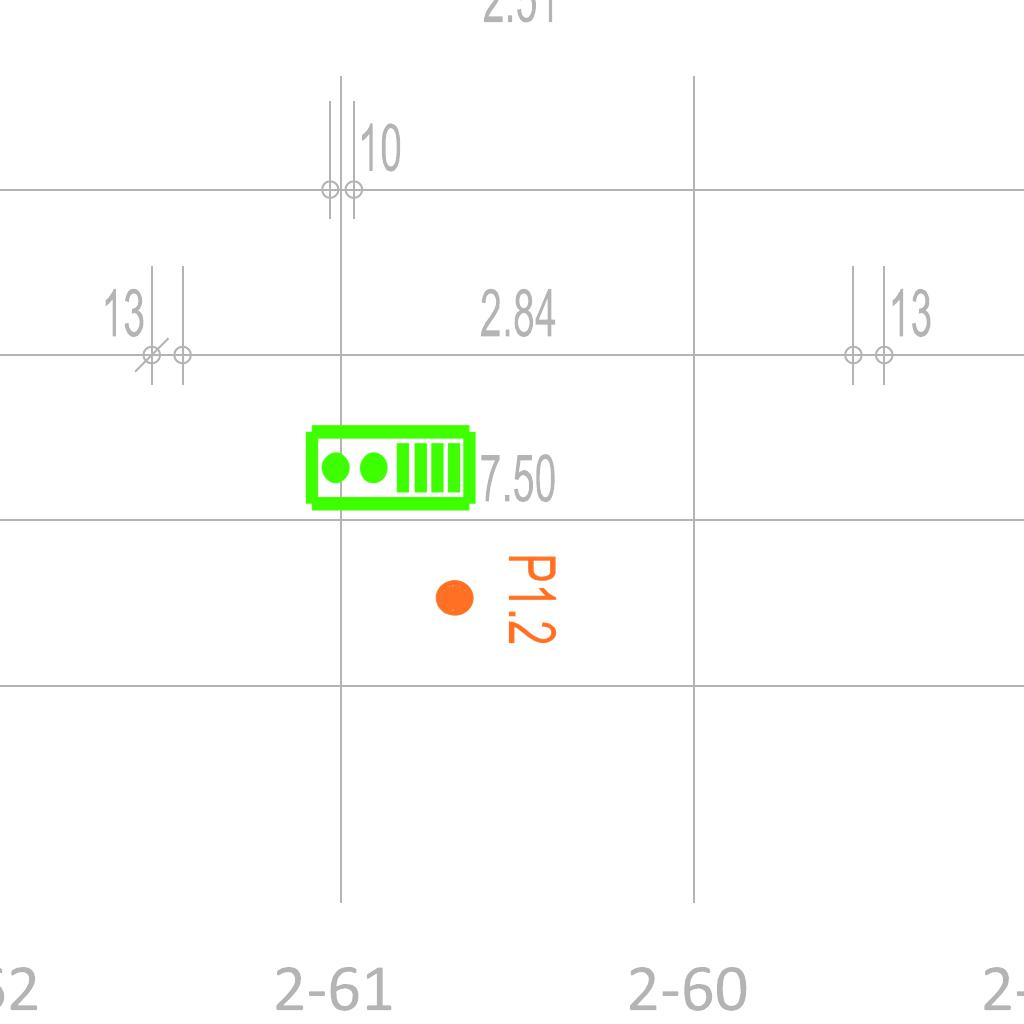Downlight_LED_Einbauleuchten_Flur: (432, 553, 560, 646)
Gegensprechanlage_mit_Video: (302, 422, 478, 517)
